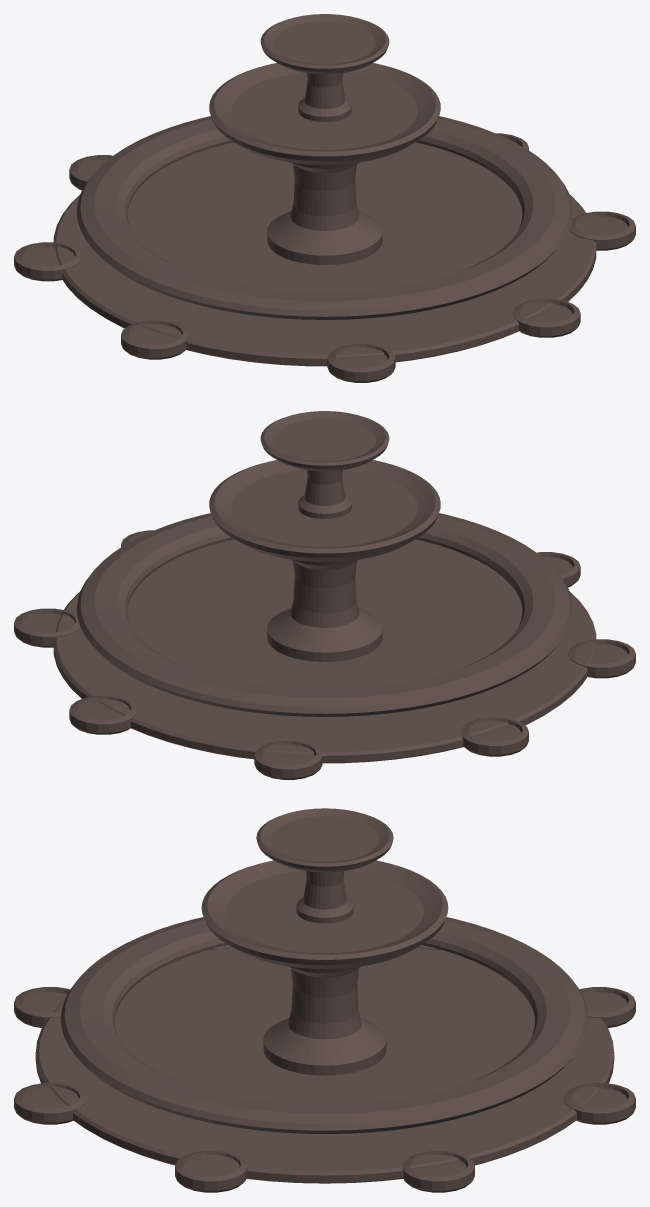
Rendered from fountain.ol.glb.
The picture shows the model from 3 angles, top to bottom: view 1: azimuth 30°, elevation 25°; view 2: azimuth 150°, elevation 25°; view 3: azimuth 270°, elevation 25°; orthographic projection. The views are drawn at different scales.
Visible parts, largest first — view 1: outline; view 2: outline; view 3: outline.
Boxes of the visible parts, bbox=[...] form: outline: bbox=[14, 14, 635, 382]; outline: bbox=[14, 411, 635, 779]; outline: bbox=[14, 808, 635, 1192].
Bounding box in the file's own units: 10.76 × 4.34 × 10.78.
